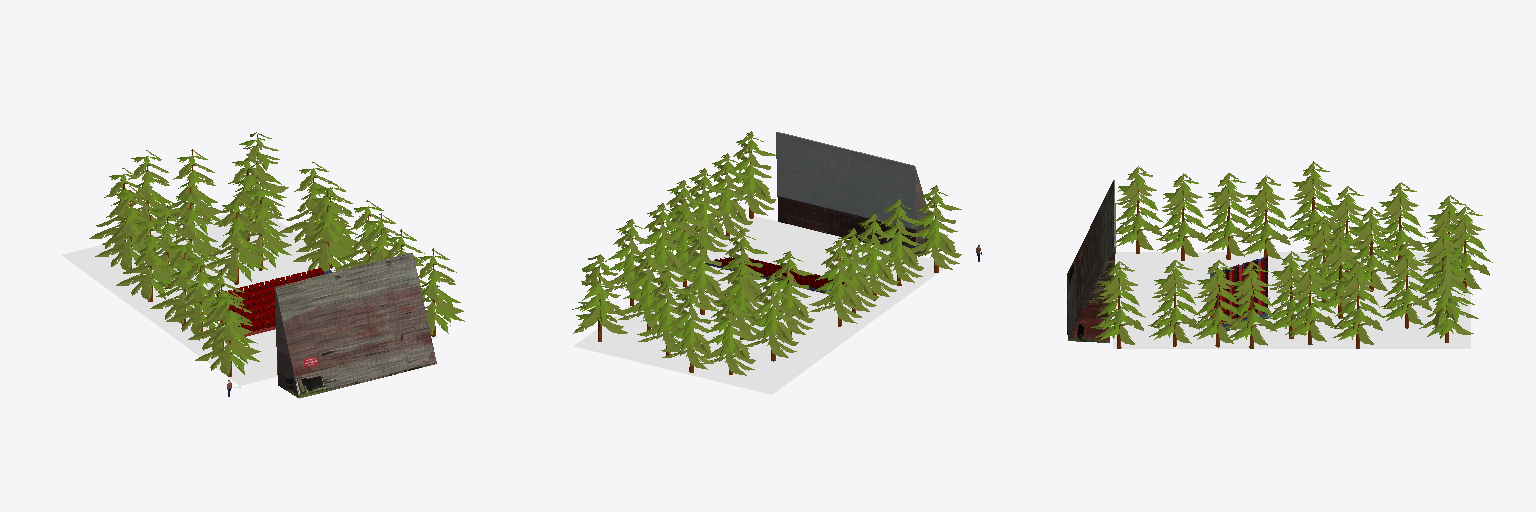
3 renders of one model, left to right at view 1: azimuth 30°, elevation 25°; view 2: azimuth 150°, elevation 25°; view 3: azimuth 270°, elevation 25°, orthographic.
Parts seen in each view (by area): view 1: Mesh733 Group395 Model, Mesh1549 Model; view 2: Mesh1549 Model, Mesh733 Group395 Model; view 3: Mesh1549 Model, Mesh733 Group395 Model.
Part boxes in pixels (x1,y1,x2,y2): Mesh733 Group395 Model: (274, 253, 436, 398); Mesh1549 Model: (62, 211, 437, 385); Mesh1549 Model: (574, 216, 949, 394); Mesh733 Group395 Model: (776, 132, 929, 255); Mesh1549 Model: (1113, 252, 1470, 348); Mesh733 Group395 Model: (1067, 180, 1115, 342).
Bounding box in the file's own units: 27.06 × 10.77 × 40.47.
21 materials, 5 textured.